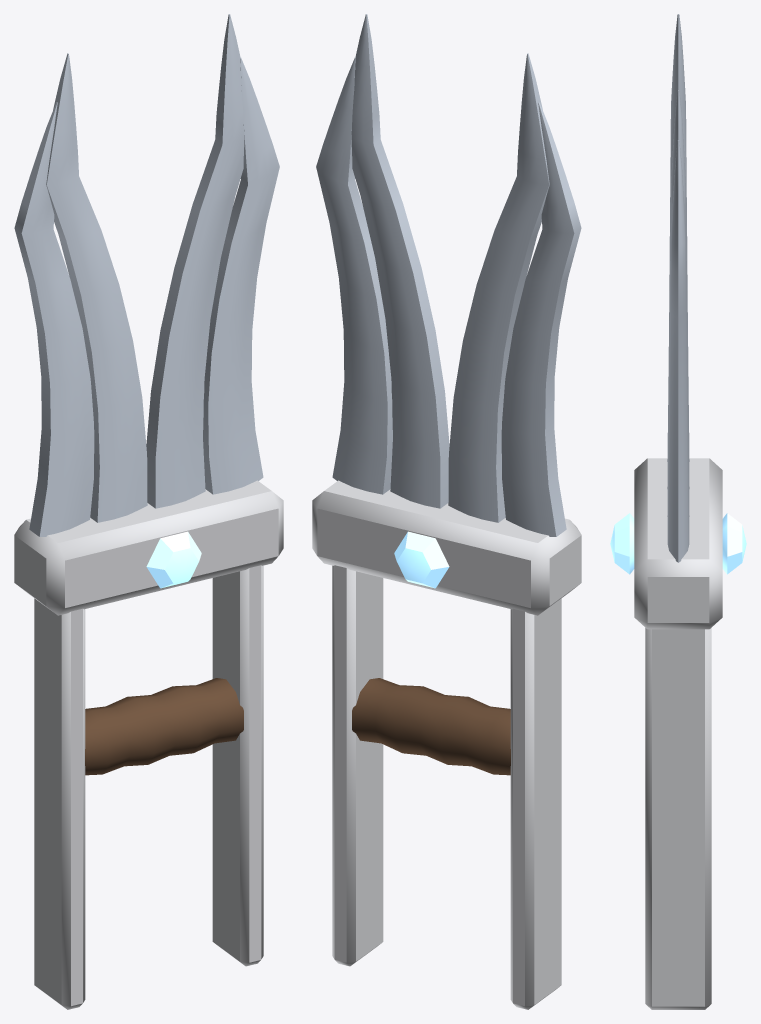
The model's file is frostbite_claws.glb.
3 renders of one model, left to right at view 1: azimuth 30°, elevation 25°; view 2: azimuth 150°, elevation 25°; view 3: azimuth 270°, elevation 25°, orthographic. The views are drawn at different scales.
Parts seen in each view (by area): view 1: frostbite_claws; view 2: frostbite_claws; view 3: frostbite_claws.
Part boxes in pixels (x1,y1,x2,y2): frostbite_claws: (14,14,283,1009); frostbite_claws: (312,14,581,1009); frostbite_claws: (610,14,746,1009).
Bounding box in the file's own units: 0.1322 × 0.455 × 0.0616.
